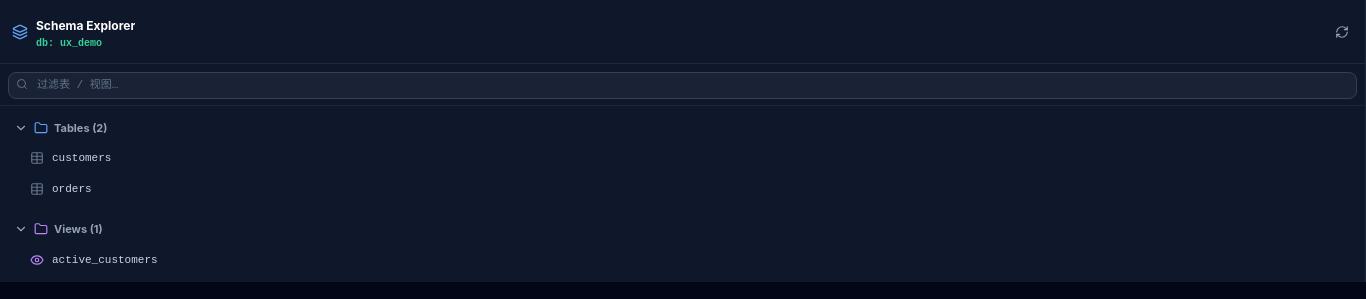
Scenario: WP9-P1-4: SchemaTree 搜索过滤 (ux_demo 真实对象) › 输入 order → 只剩 orders, customers/active_customers 被过滤
Check: the text "customers" is shown, box [52,150,111,166]
Type "order" into the field named "过滤表和视图". click: [682, 85]
box: [8,72,1357,98]
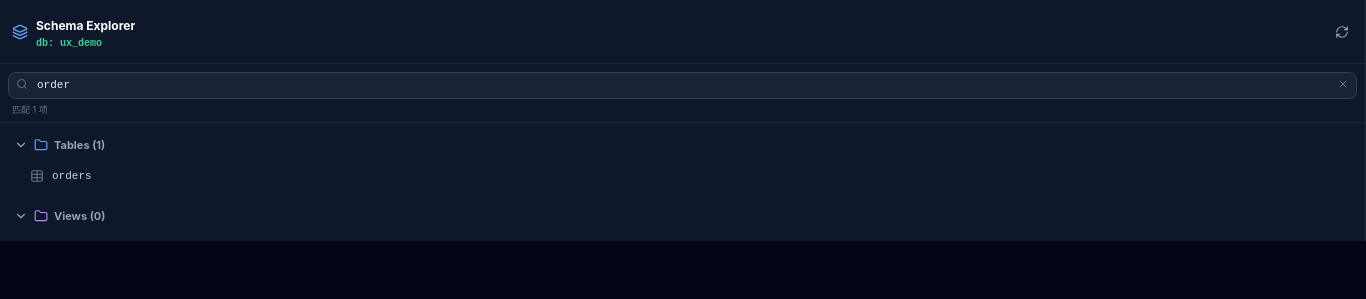
Check: the text "customers" is gone
Check: the text "active_customers" is gone
Check: the text with test id "schema-filter-count" shows "1", box [32,104,36,114]
